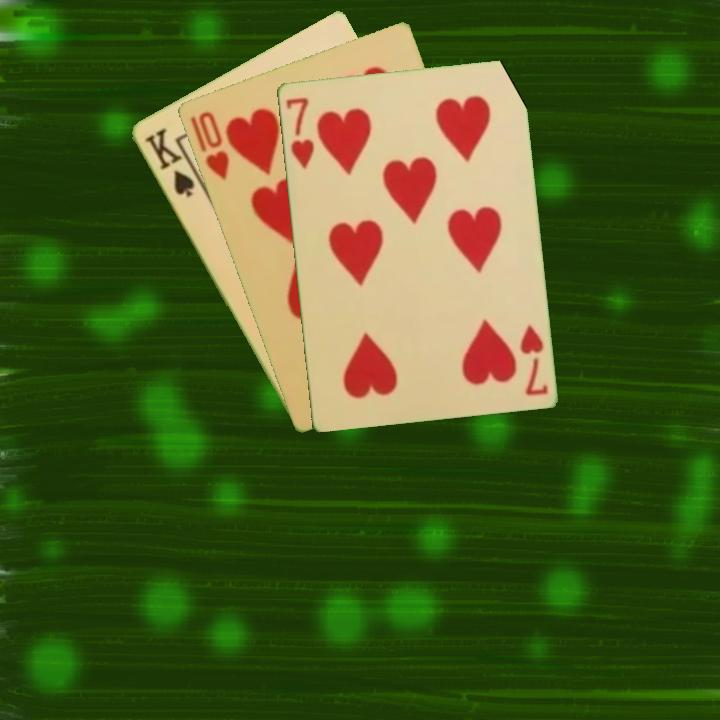10h: (186, 107, 232, 183)
7h: (282, 93, 317, 172), (516, 320, 550, 398)
Ks: (140, 124, 197, 200)
